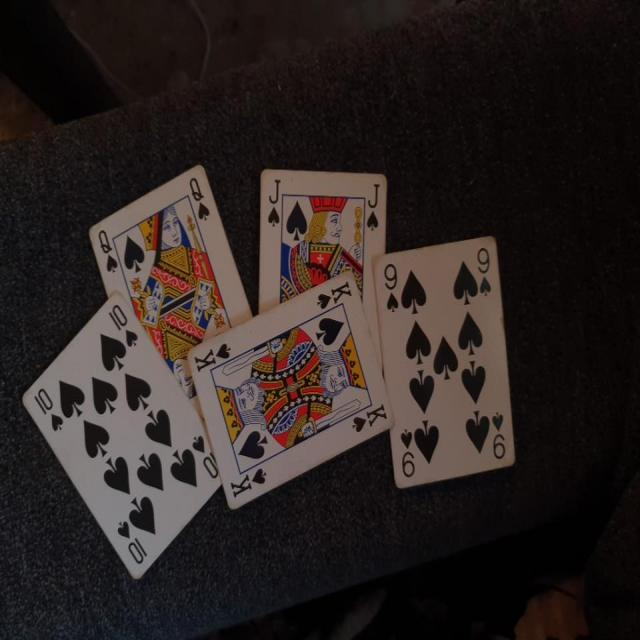10 Spades: (14, 289, 235, 576)
9 Spades: (374, 234, 518, 490)
J Spades: (253, 162, 388, 436)
K Spades: (188, 270, 395, 524)
Q Spades: (79, 164, 266, 434)
